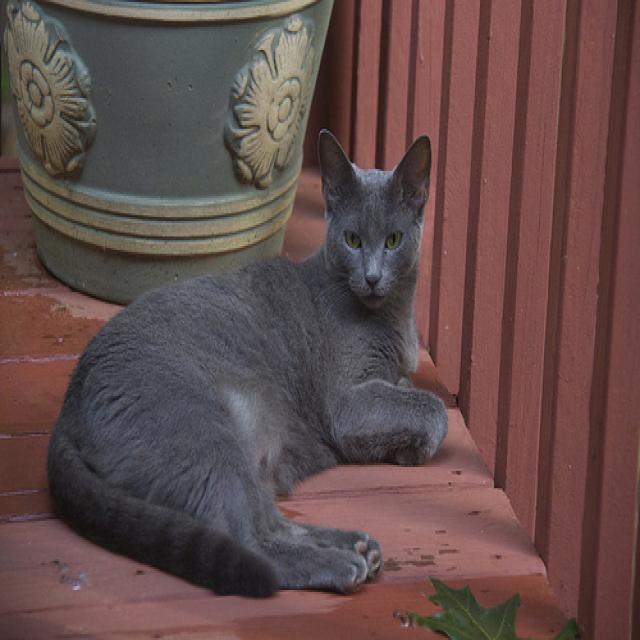Russian_Blue: (314, 121, 435, 308)
